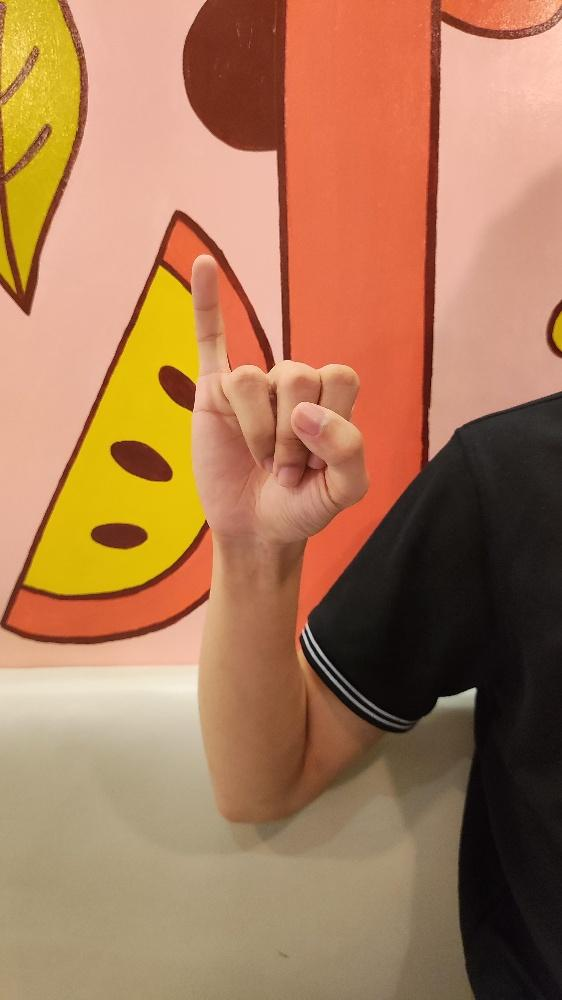i: (188, 252, 372, 547)
